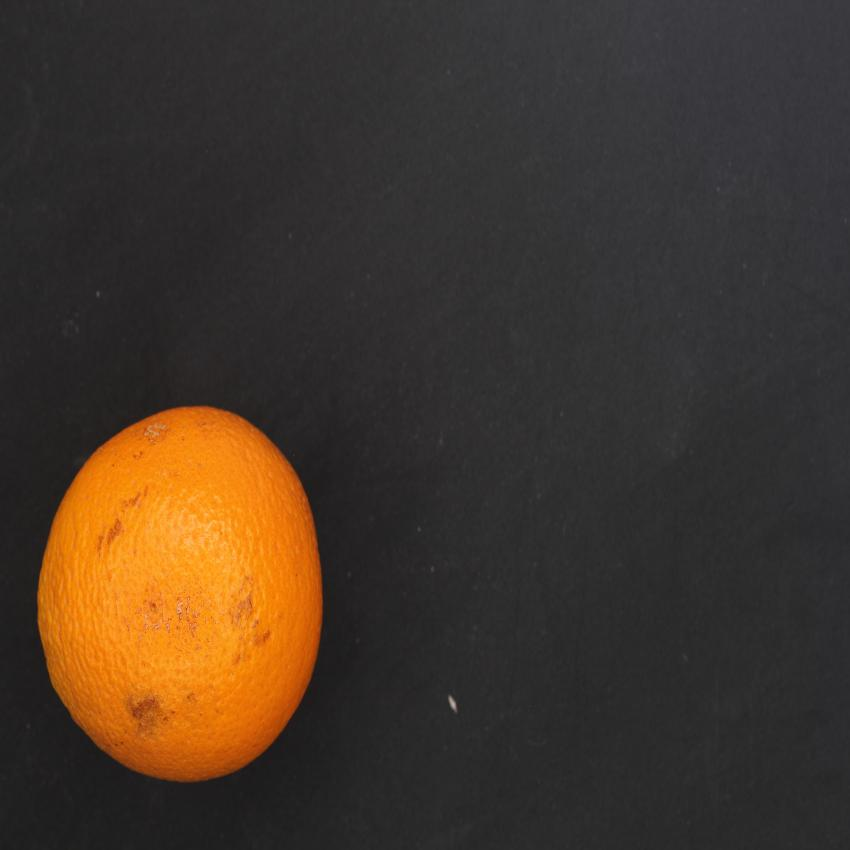Mal estado: (29, 395, 358, 798)
